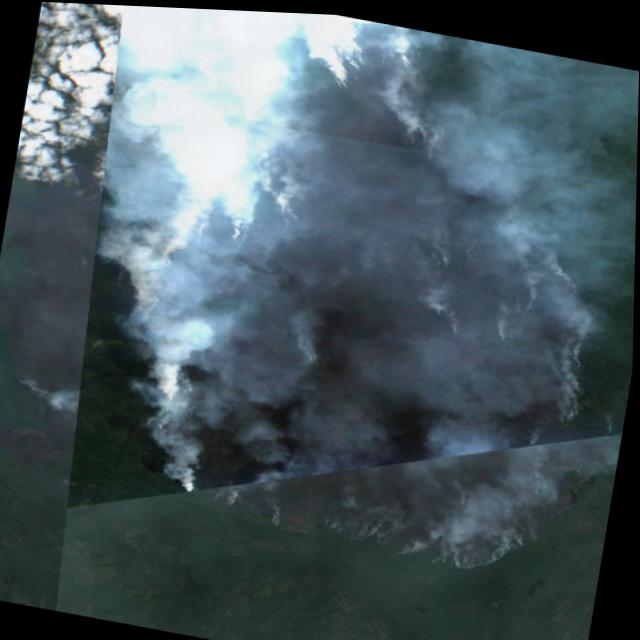fire: (83, 3, 640, 596)
